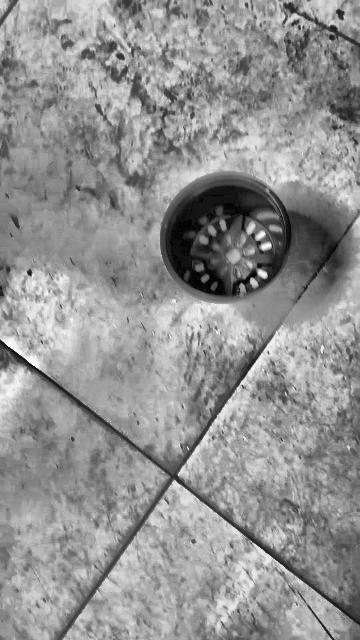pot: (160, 172, 291, 301)
